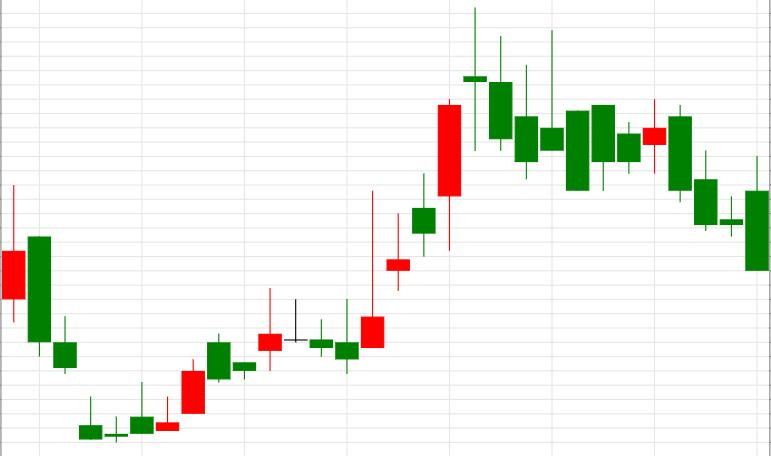evening_star_fall: (336, 8, 512, 374)
